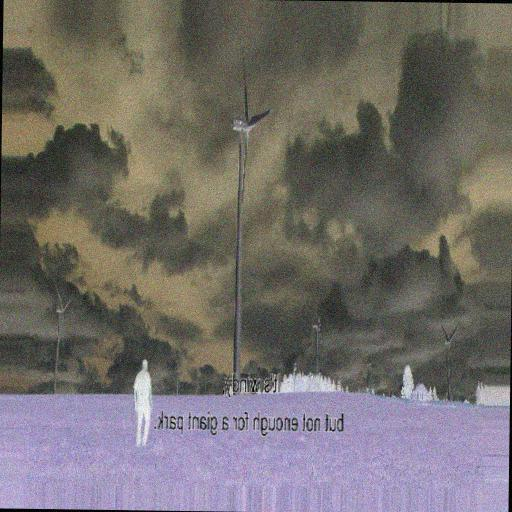wind turbine: (227, 58, 273, 377)
